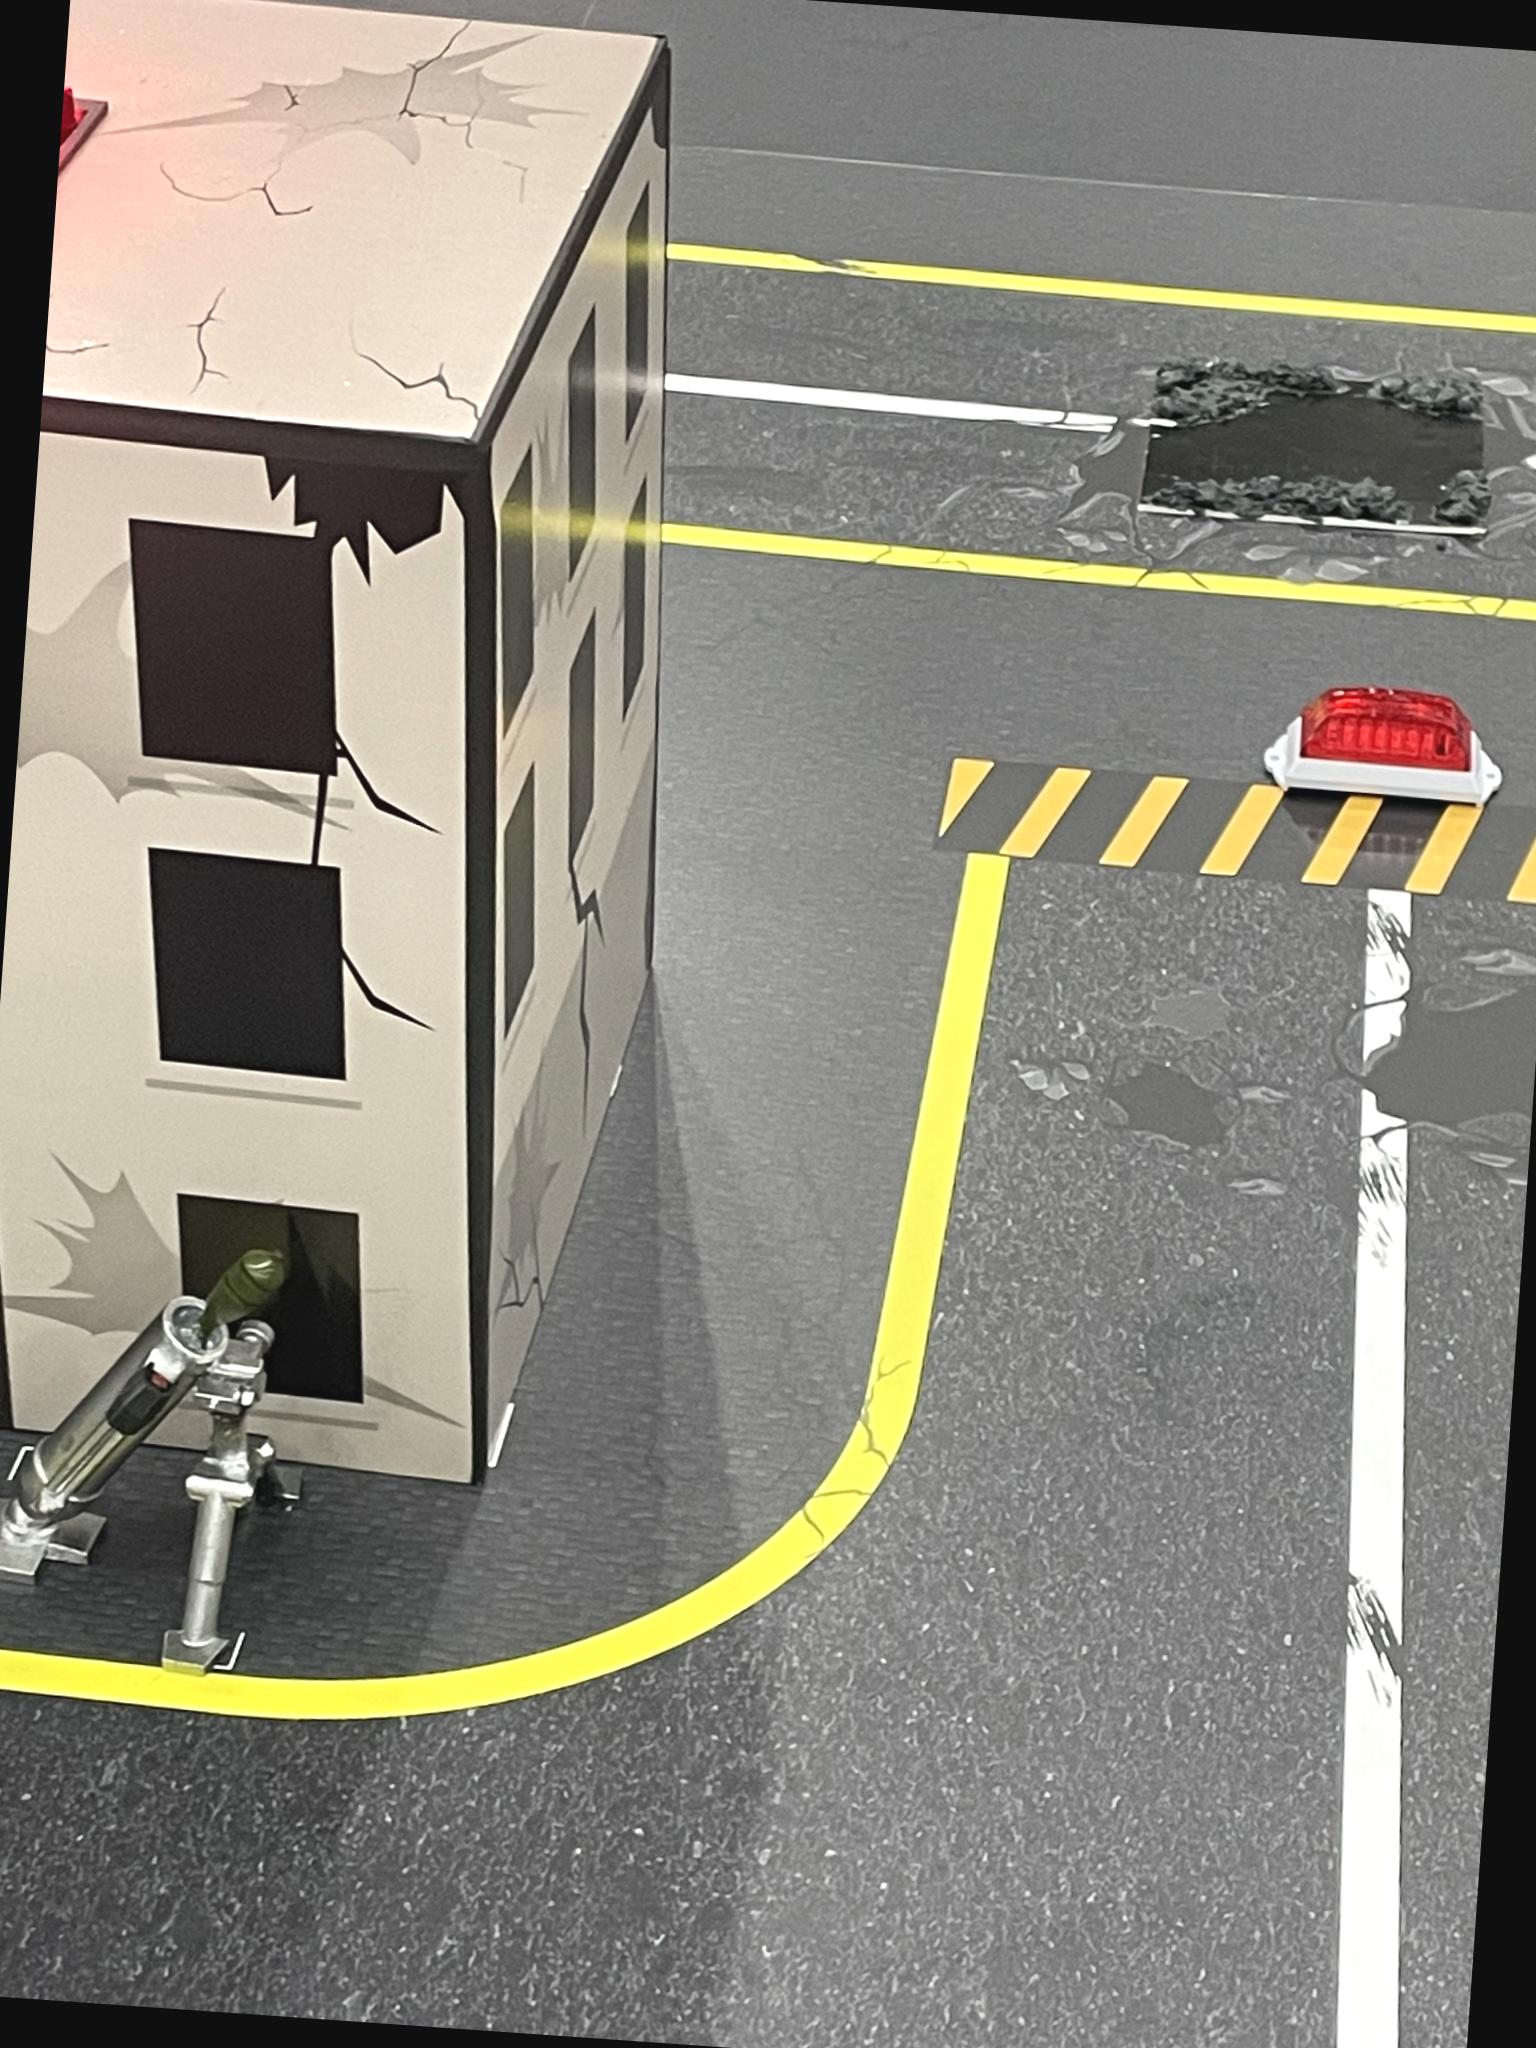Mortar: (0, 1226, 340, 1714)
